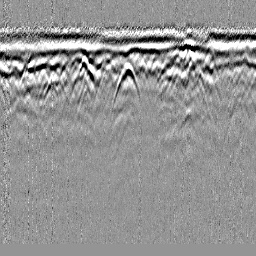cavity: (112, 59, 141, 108)
